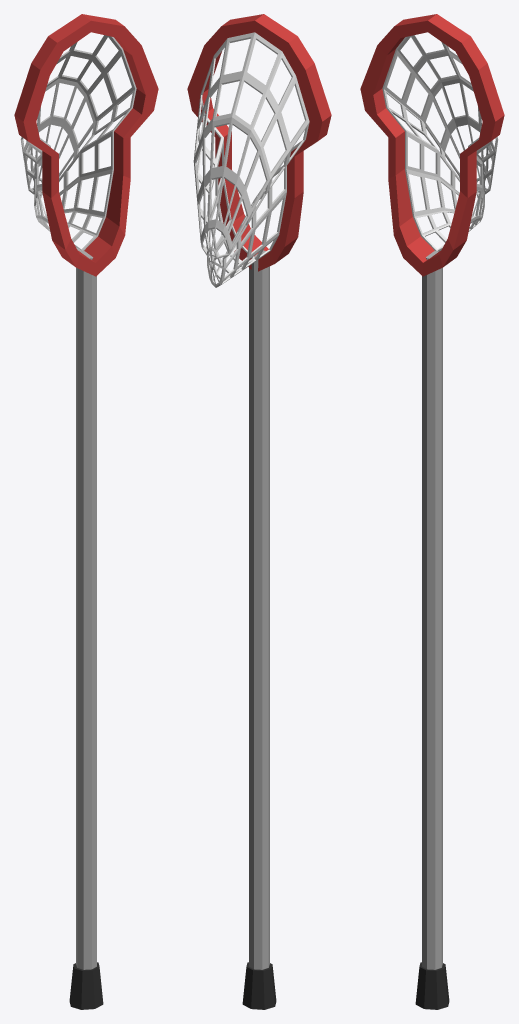
File: Lacrosse Stick.fbx
3 views of the same model, side by side, from view 1: azimuth 30°, elevation 25°; view 2: azimuth 150°, elevation 25°; view 3: azimuth 330°, elevation 25° (orthographic).
Parts seen in each view (by area): view 1: Lacrosse Stick, Netting; view 2: Lacrosse Stick, Netting; view 3: Lacrosse Stick, Netting.
Part boxes in pixels (x1=…): Lacrosse Stick: x1=14, y1=14, x2=158, y2=1009; Netting: x1=20, y1=35, x2=136, y2=251; Lacrosse Stick: x1=187, y1=14, x2=331, y2=1009; Netting: x1=193, y1=32, x2=309, y2=287; Lacrosse Stick: x1=360, y1=14, x2=504, y2=1009; Netting: x1=382, y1=35, x2=498, y2=251.
Bounding box in the file's own units: 204 × 1422 × 150.
